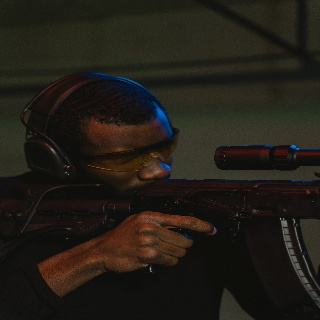rifle: (2, 140, 320, 239)
